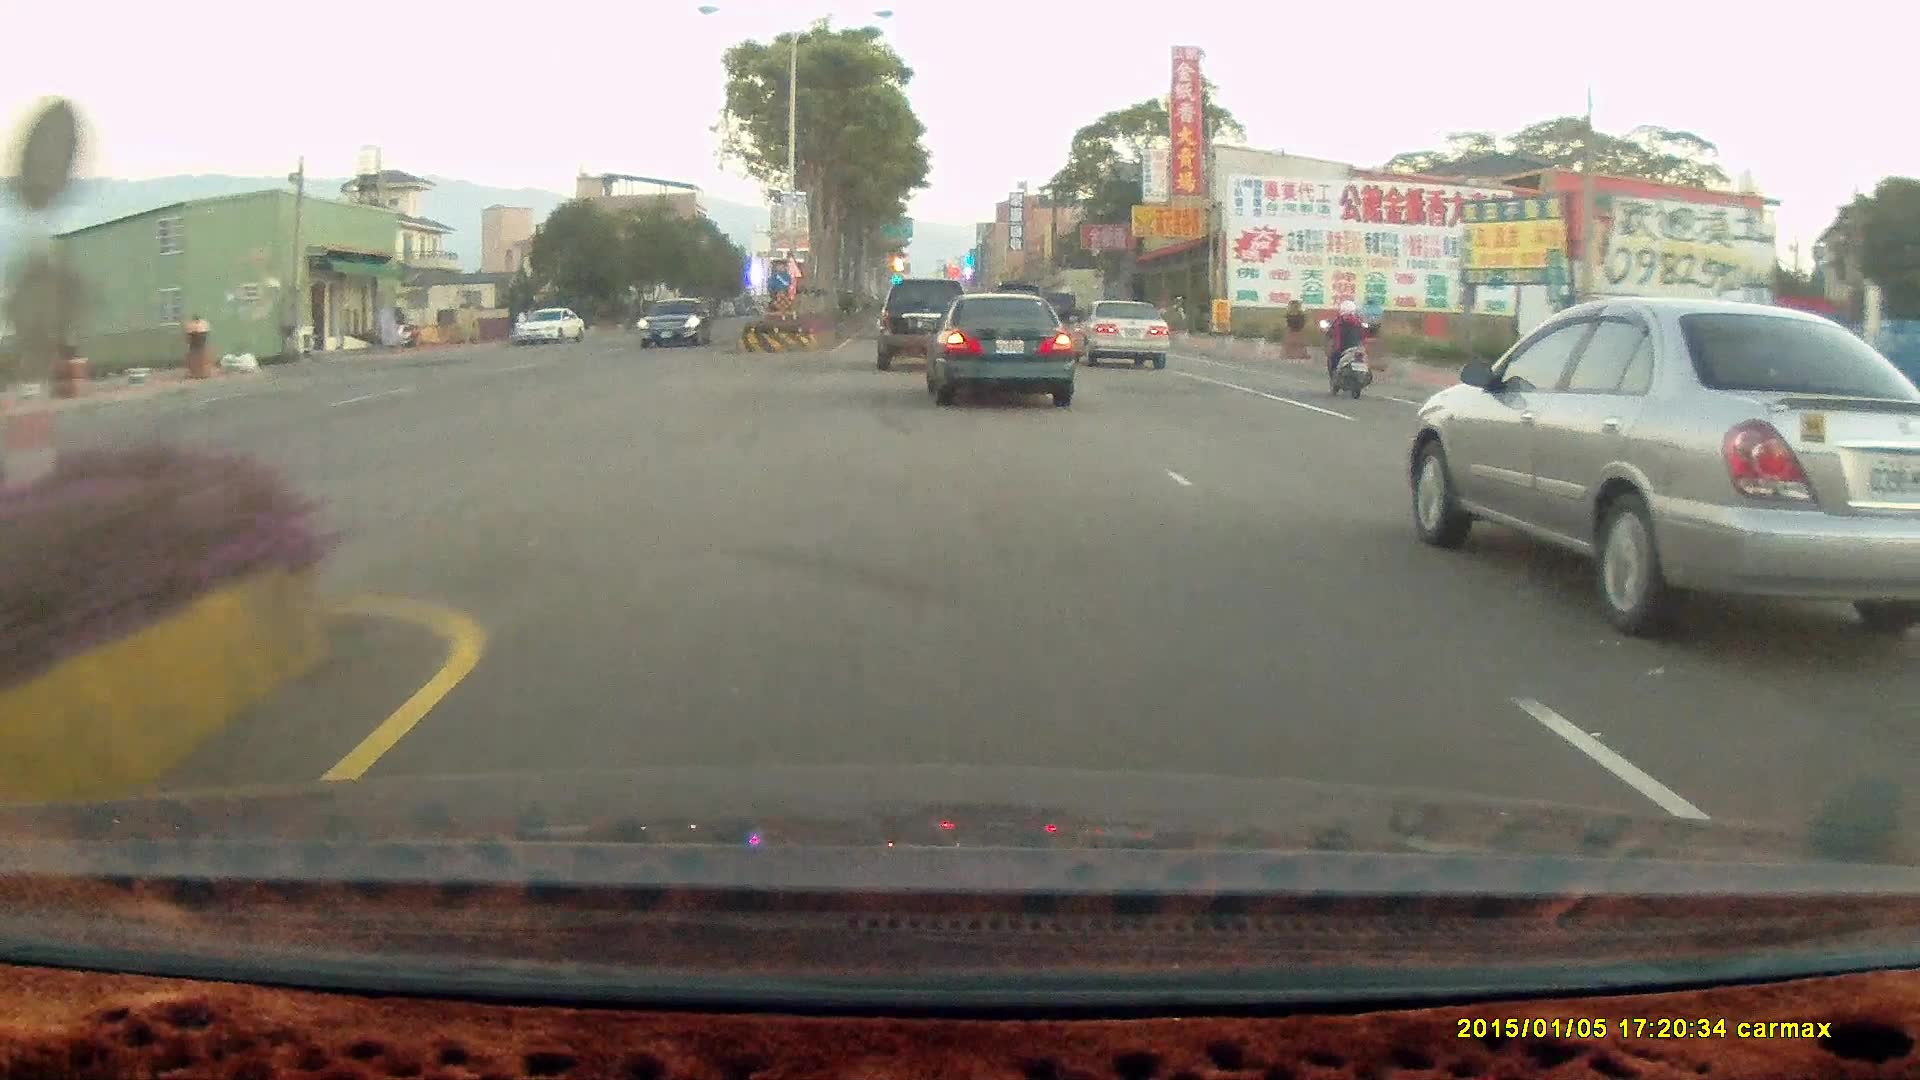rider: (1308, 291, 1388, 406), (1316, 296, 1372, 396)
vehicle: (1406, 295, 1920, 642), (920, 289, 1075, 404), (928, 298, 1076, 406), (880, 279, 976, 374), (876, 277, 970, 370), (1069, 298, 1170, 370), (1071, 301, 1173, 368), (639, 298, 715, 349), (638, 296, 714, 347), (516, 307, 586, 347), (513, 305, 584, 343)
